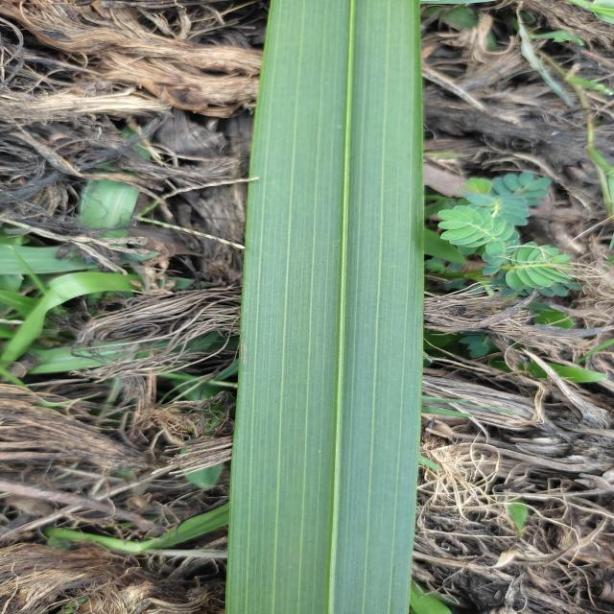Healthy: (225, 1, 426, 614)
